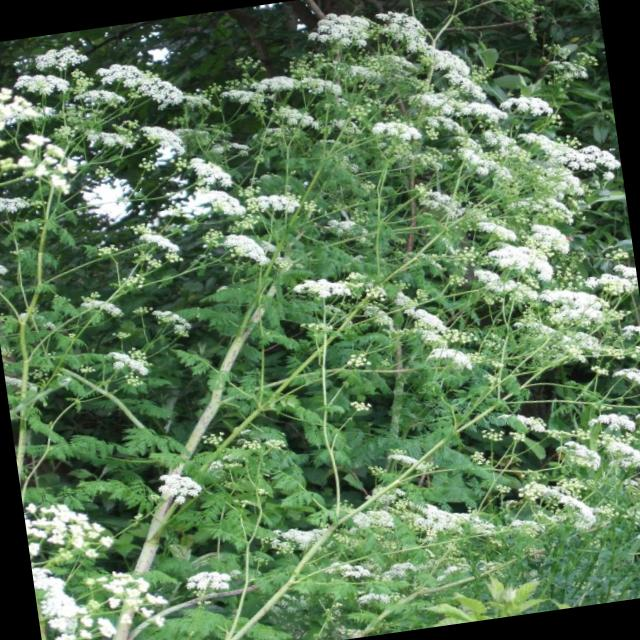Poisonous-Hemlock: (0, 0, 640, 417), (343, 395, 640, 636), (28, 458, 298, 640)
